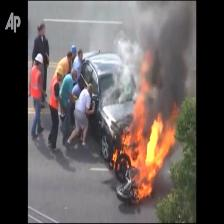fire: (123, 126, 171, 198)
smoke: (146, 23, 191, 111)
